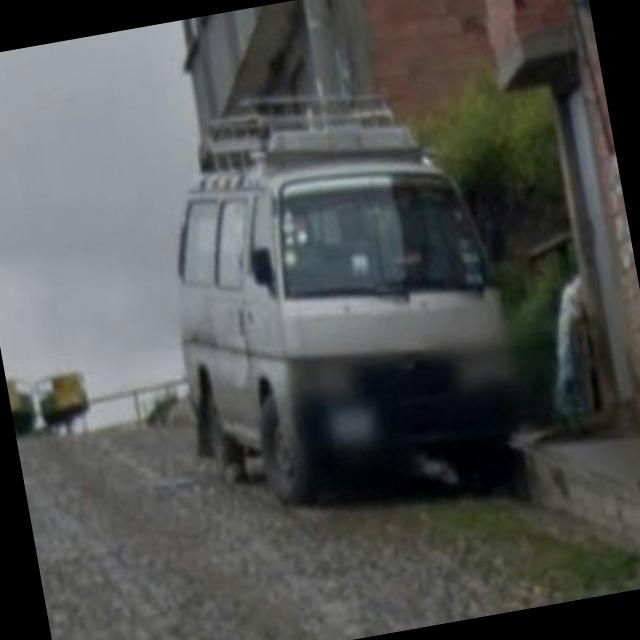car: (138, 106, 540, 536)
